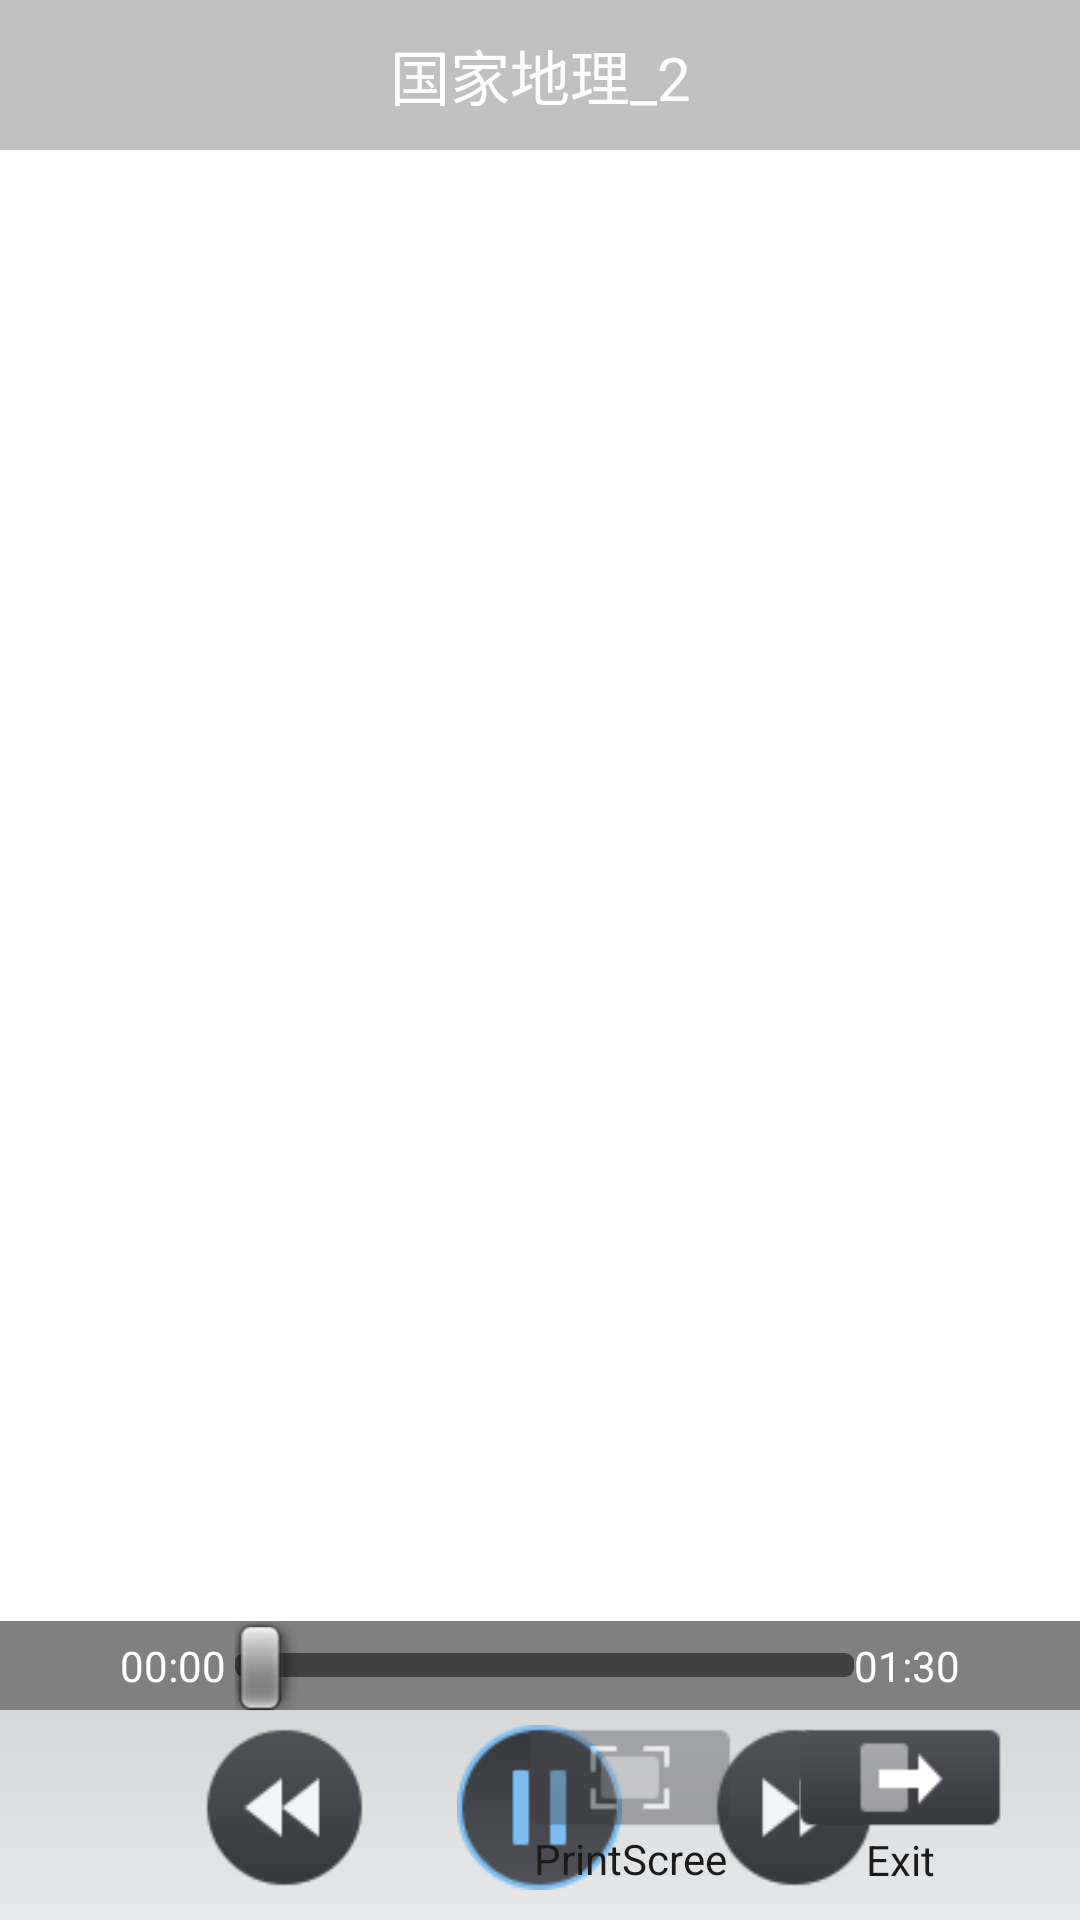

Where to tap for icons on this 1080 x 1920 app screen, as point (x, y):
video pause: point (539, 1807)
